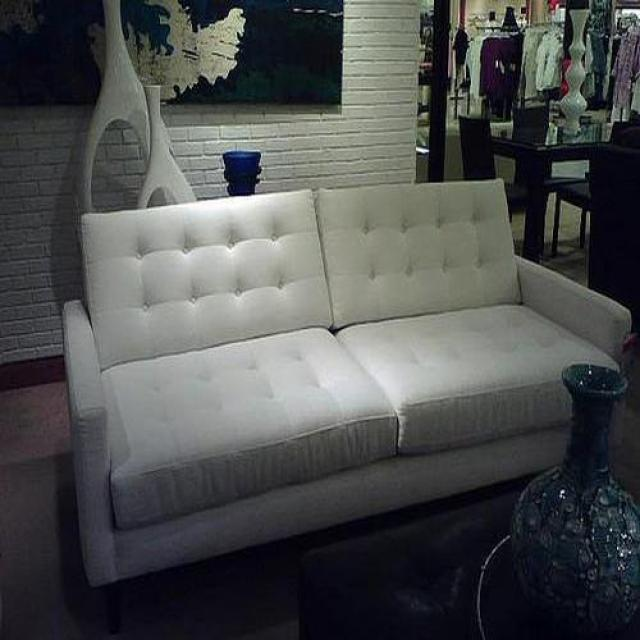sofa: (63, 180, 631, 590)
